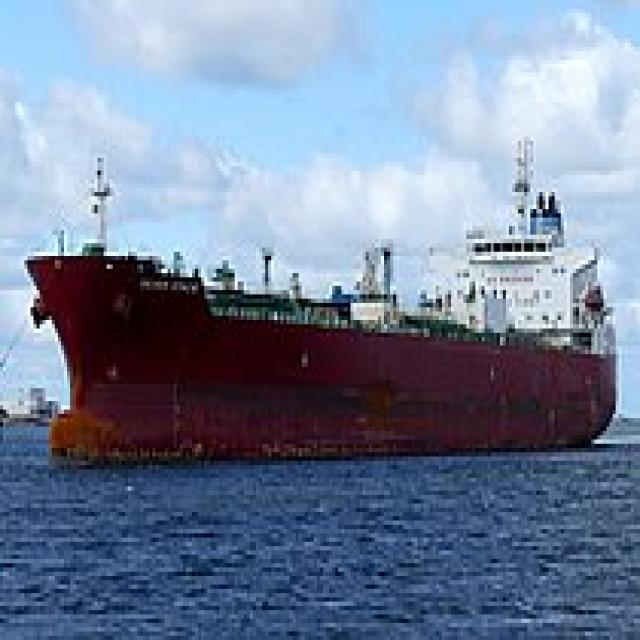Tanker: (18, 132, 619, 461)
